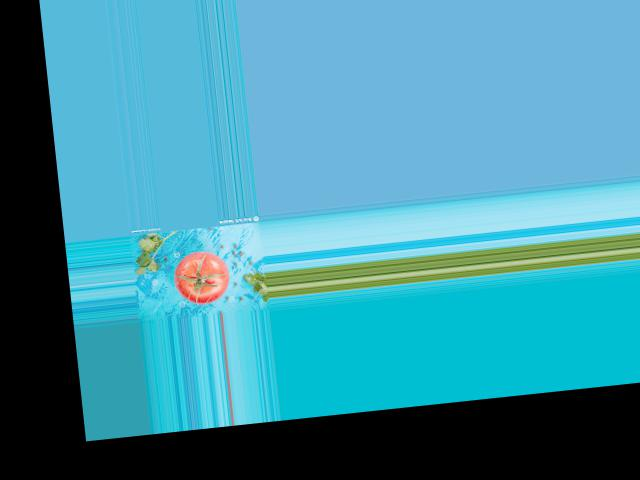tomato: (171, 248, 231, 306)
